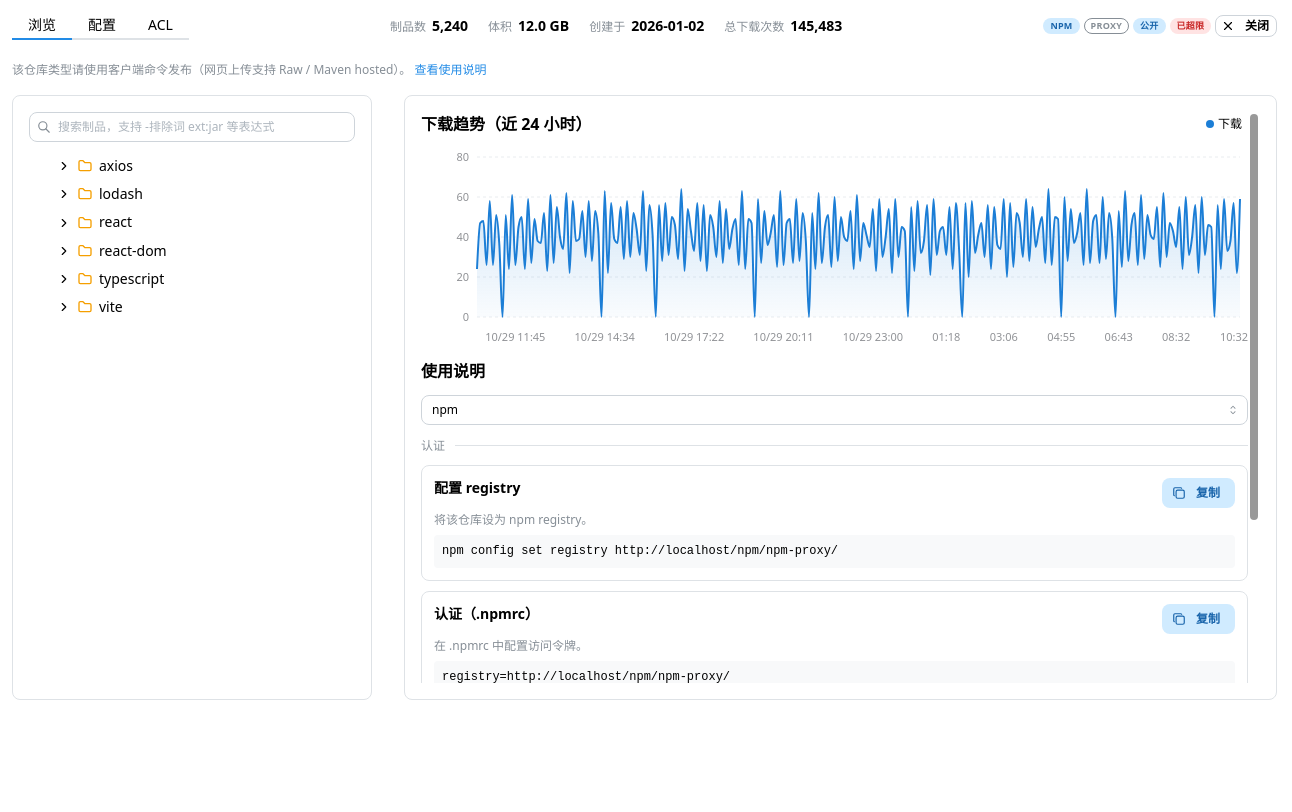
Test case: 仓库配额：详情页配置区 › 已超限仓库给出 429 拒绝写入的明确提示
What coordinates should you click on to do the following:
click the tab "配置"
I would click on:
 (102, 26)
Its box is [72, 12, 132, 40].
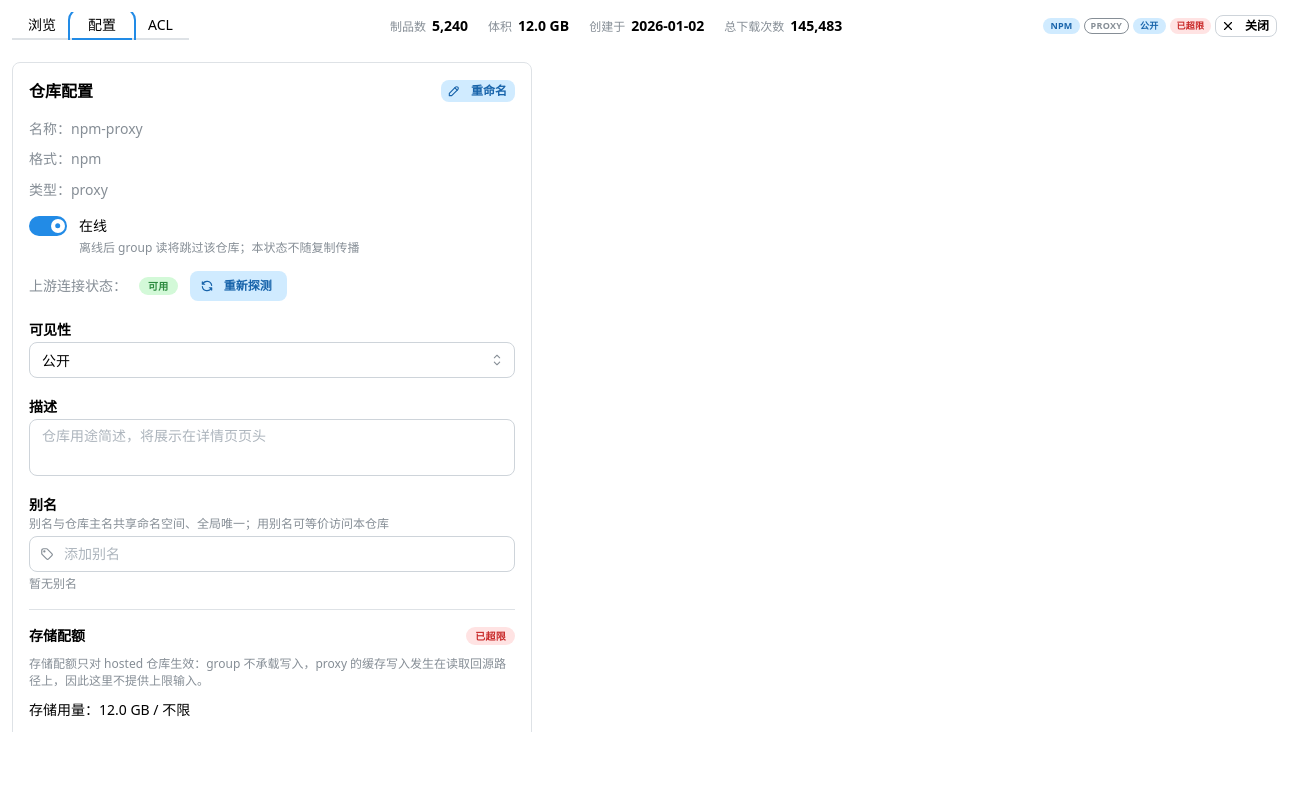
Check: the element with test id "repo-quota-state" reads "已超限", box [475, 629, 506, 643]
Check: the text "存储用量：12.0 GB / 不限" is shown, box [29, 700, 190, 719]
